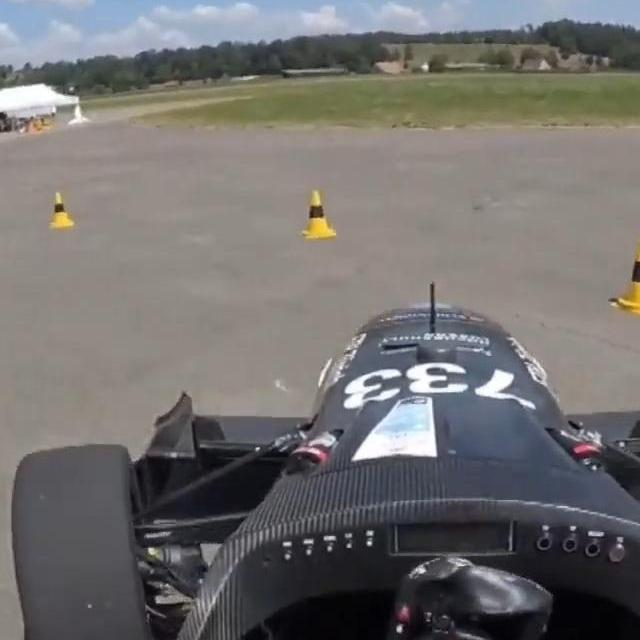Safety Cone: (601, 236, 640, 318), (303, 190, 340, 244), (39, 192, 74, 229)
vehicle: (0, 286, 640, 640)
